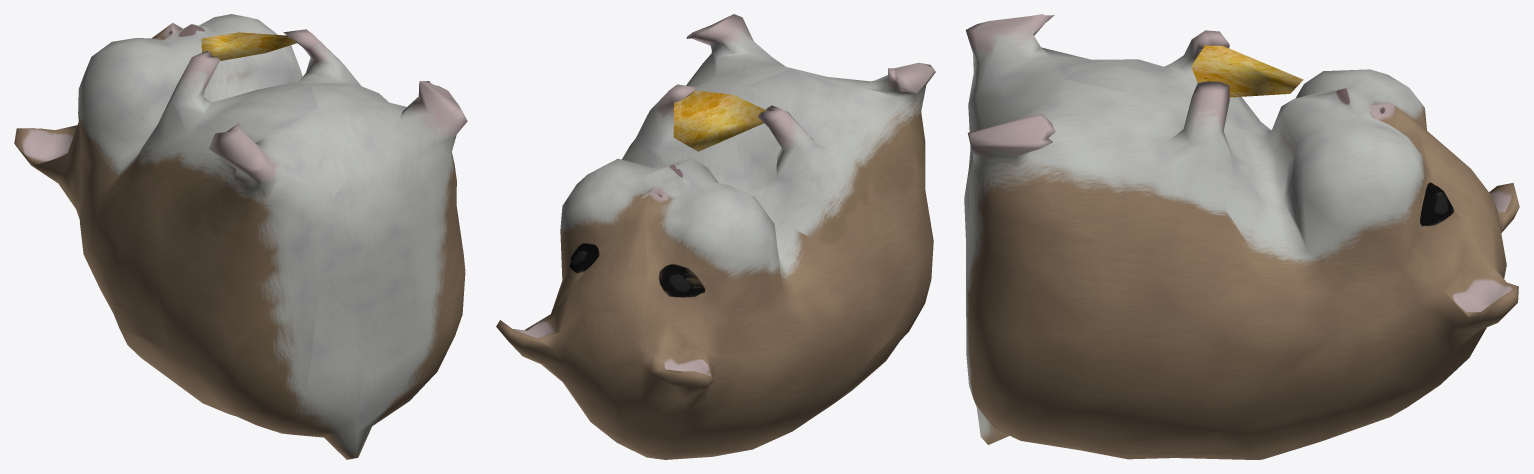
The model's file is hampter.glb.
3 views of the same model, side by side, from view 1: azimuth 30°, elevation 25°; view 2: azimuth 150°, elevation 25°; view 3: azimuth 270°, elevation 25° (orthographic). The views are drawn at different scales.
Parts seen in each view (by area): view 1: Hamster; view 2: Hamster; view 3: Hamster.
Boxes of the visible parts, bbox=[...] form: Hamster: bbox=[14, 14, 467, 459]; Hamster: bbox=[496, 14, 935, 459]; Hamster: bbox=[964, 14, 1519, 459].
Bounding box in the file's own units: 2.86 × 3.33 × 4.3.
2 materials, 2 textured.
